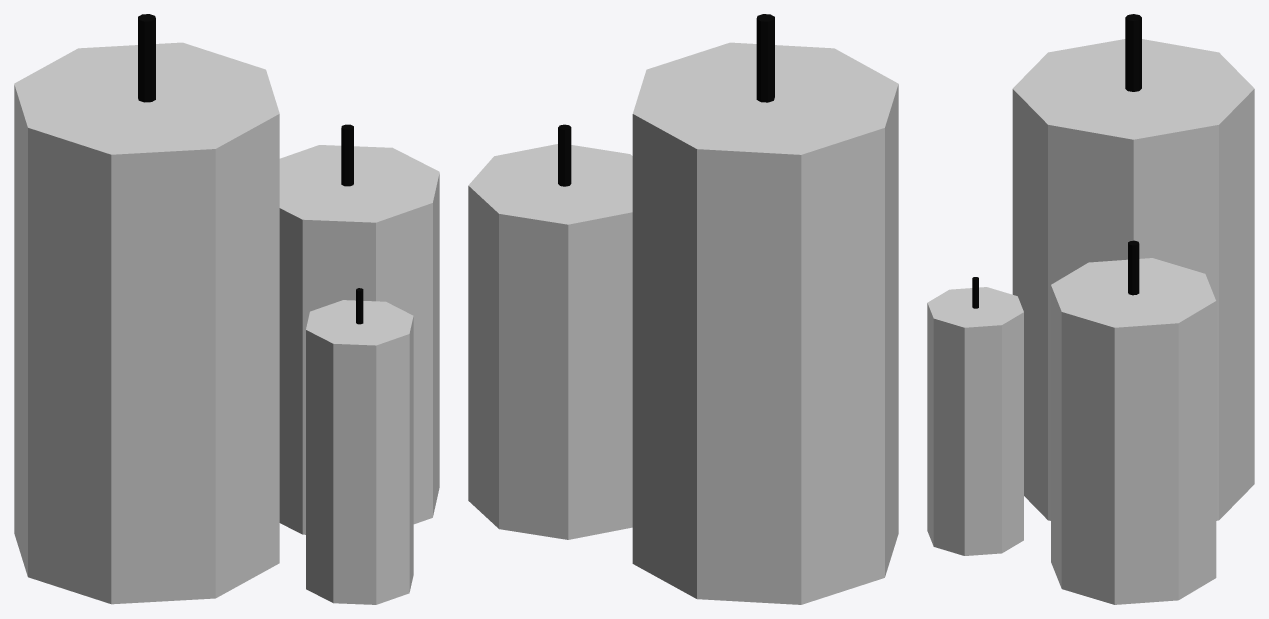
File: candles.glb
3 renders of one model, left to right at view 1: azimuth 30°, elevation 25°; view 2: azimuth 150°, elevation 25°; view 3: azimuth 270°, elevation 25°, orthographic. The views are drawn at different scales.
Visible parts, largest first — view 1: candles; view 2: candles; view 3: candles.
Boxes of the visible parts, x1,y1,x2,y2 form: candles: (14,14,439,604); candles: (468,14,898,604); candles: (927,14,1254,604).
Size of the model in its own units: 0.1033 by 0.1305 by 0.0829.
Materials: 1 (1 with a texture image).
